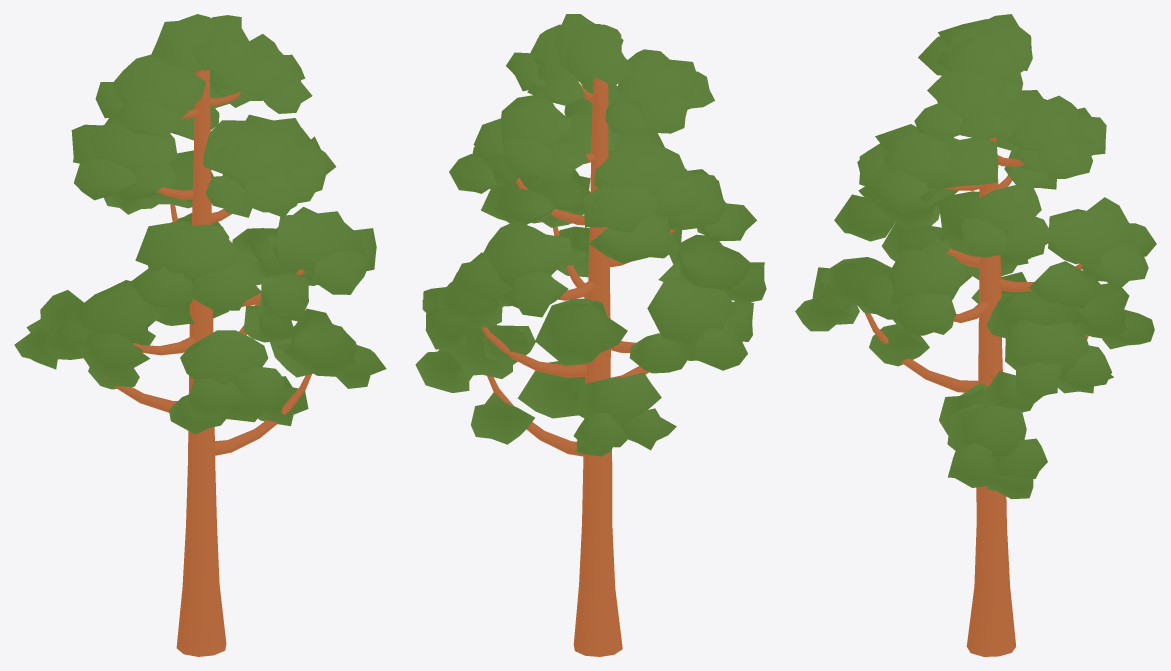
Rendered from Blender_Ponderosa_2.glb.
3 renders of one model, left to right at view 1: azimuth 30°, elevation 25°; view 2: azimuth 150°, elevation 25°; view 3: azimuth 270°, elevation 25°, orthographic.
Parts seen in each view (by area): view 1: Blender_Ponderosa_2; view 2: Blender_Ponderosa_2; view 3: Blender_Ponderosa_2.
Part boxes in pixels (box(x1,y1,x2,y2)): Blender_Ponderosa_2: box(14, 14, 386, 656); Blender_Ponderosa_2: box(415, 14, 766, 656); Blender_Ponderosa_2: box(795, 14, 1156, 656).
Size of the model in its own units: 12.85 by 23.71 by 12.54.
